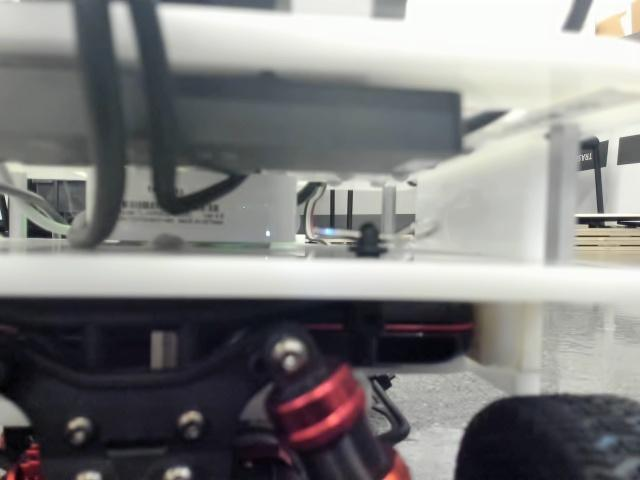Car: (0, 0, 635, 480)
